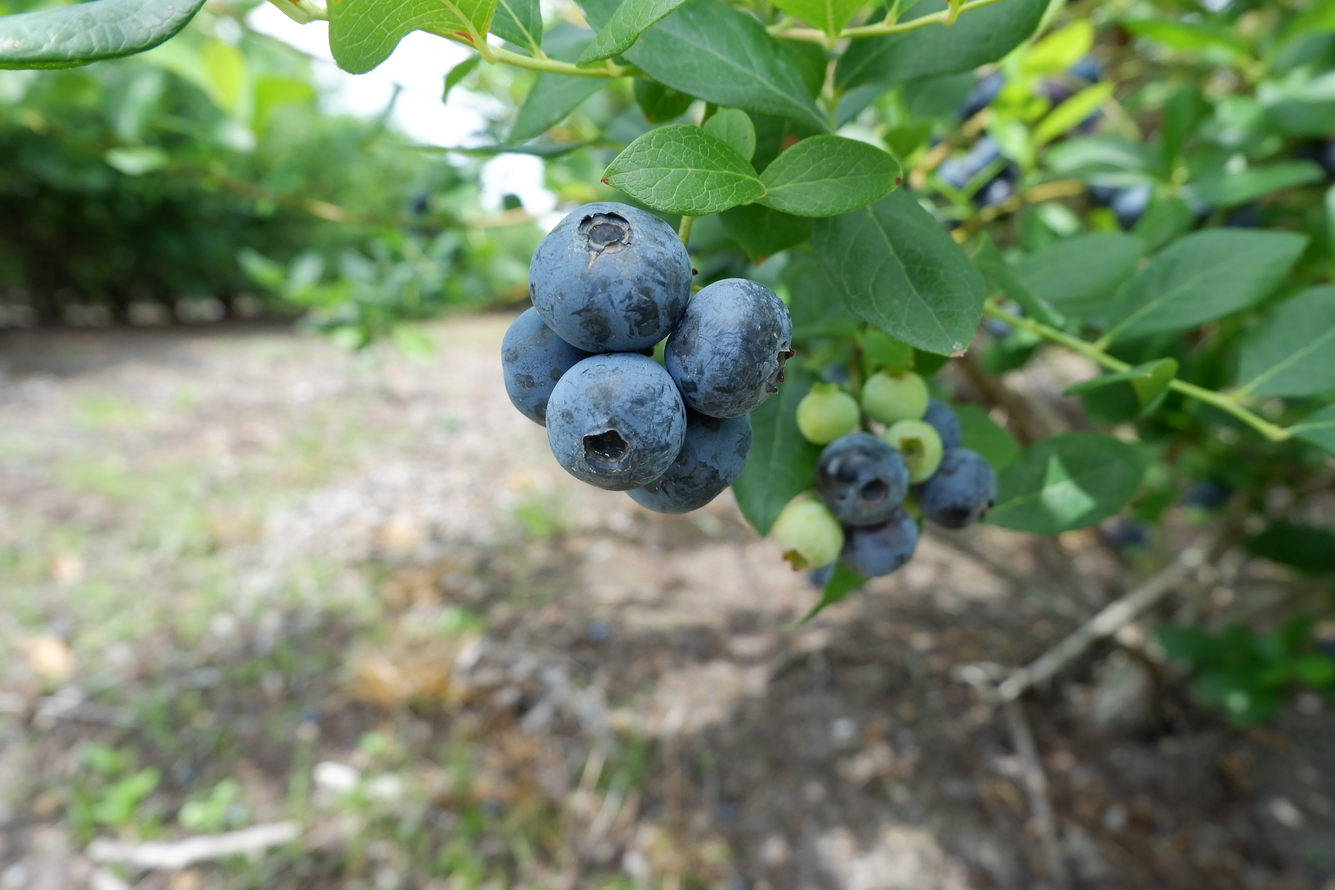Immature: (774, 494, 843, 568), (863, 366, 927, 425), (799, 384, 861, 443), (885, 420, 942, 479)
Mature: (531, 208, 689, 347), (549, 356, 685, 488), (665, 282, 789, 414), (629, 407, 751, 509), (503, 311, 592, 423), (819, 435, 906, 523), (915, 450, 994, 526), (843, 506, 917, 575), (925, 401, 960, 447)
